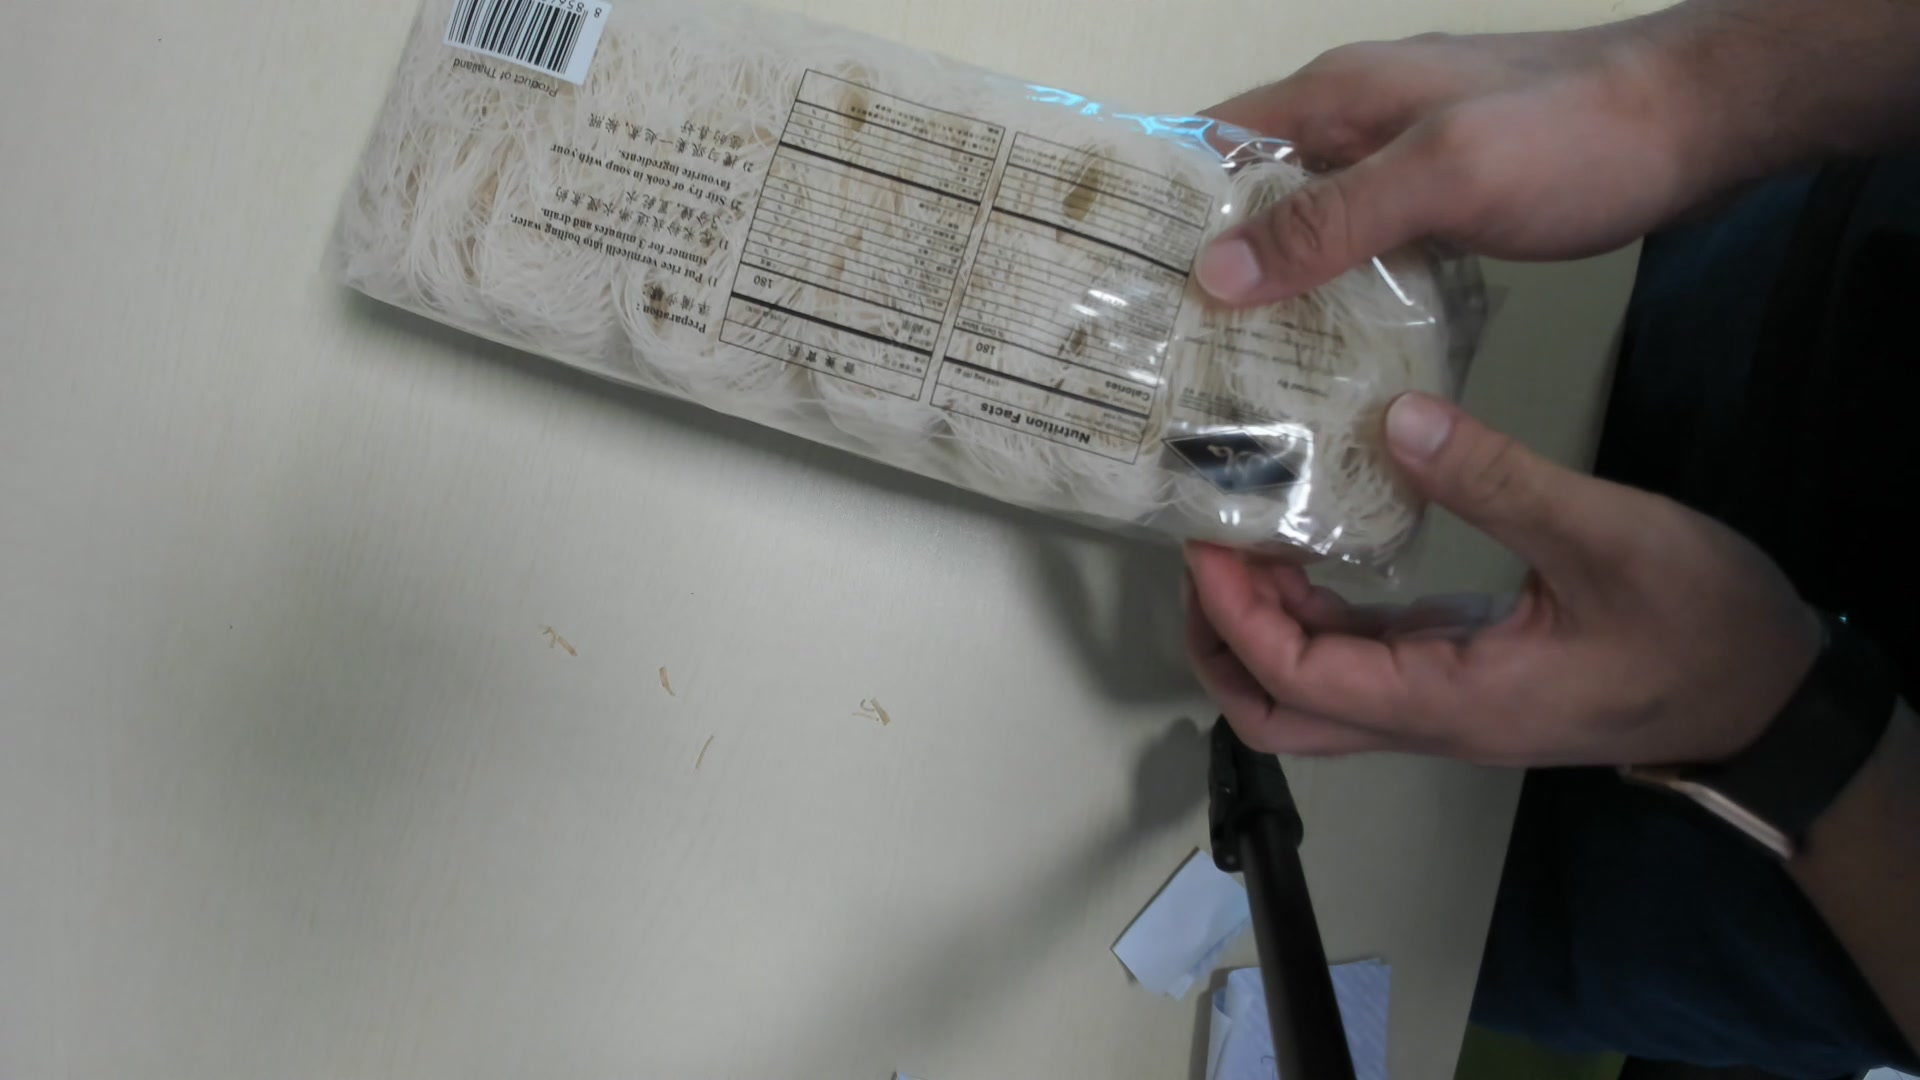BeeHoonVermicelli_500-599g_Halal_NonHealthy: (331, 8, 1458, 585)
